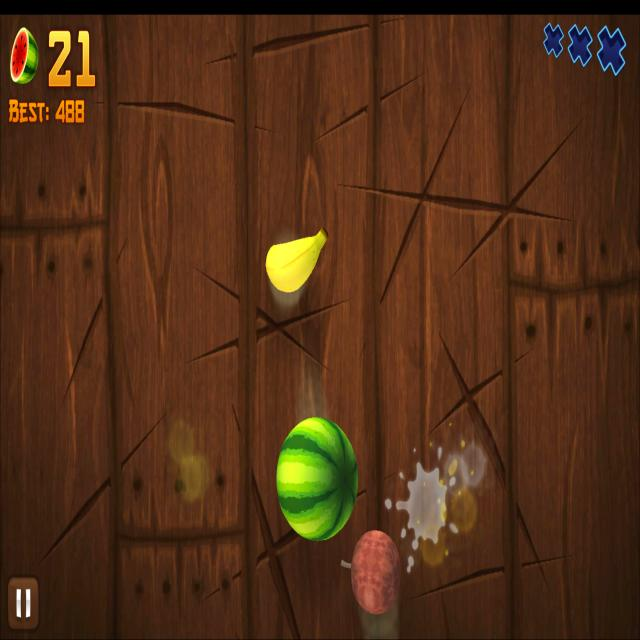fruit: (274, 415, 359, 545), (351, 528, 402, 616), (264, 224, 328, 294)
